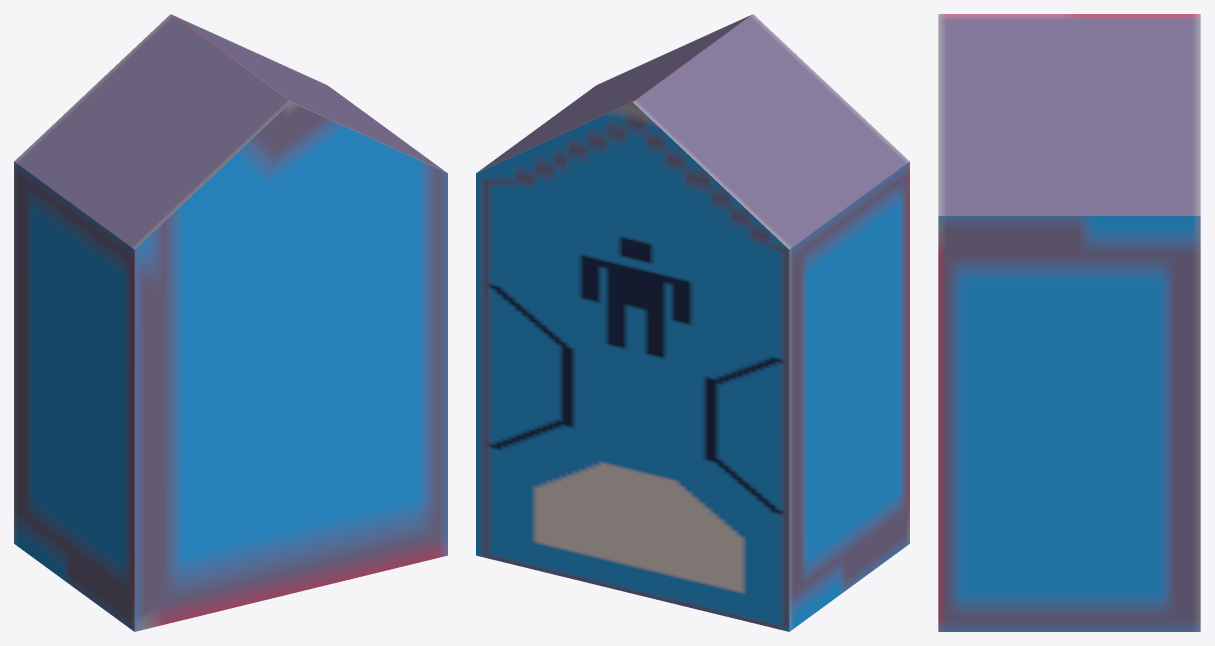
The model's file is toillet.gltf.
3 renders of one model, left to right at view 1: azimuth 30°, elevation 25°; view 2: azimuth 150°, elevation 25°; view 3: azimuth 270°, elevation 25°, orthographic. The views are drawn at different scales.
Bounding box in the file's own units: 1.5 × 2.25 × 1.
Materials: 1 (1 with a texture image).
